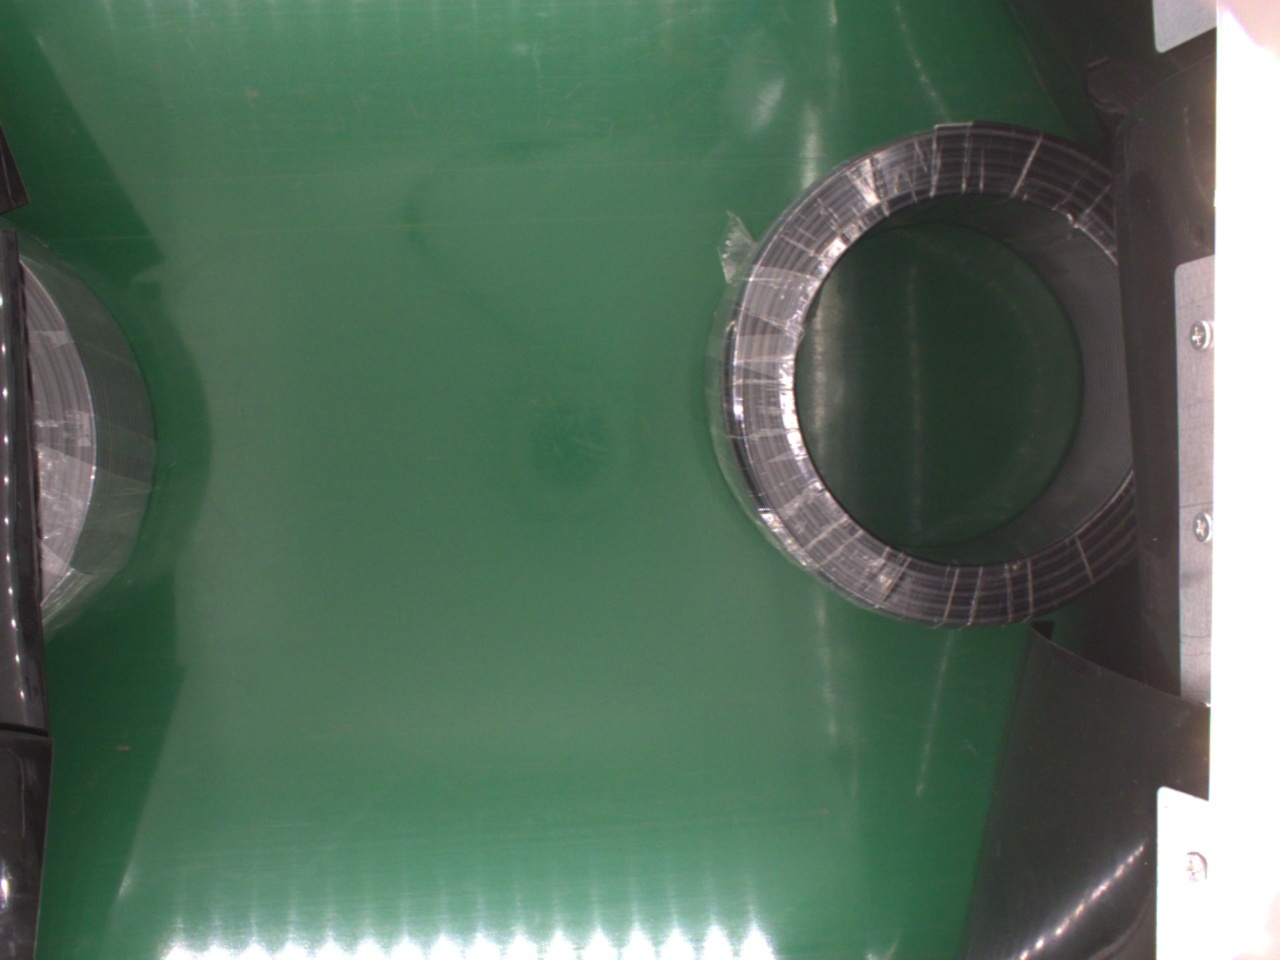black: (707, 122, 1154, 626), (17, 232, 154, 629)
